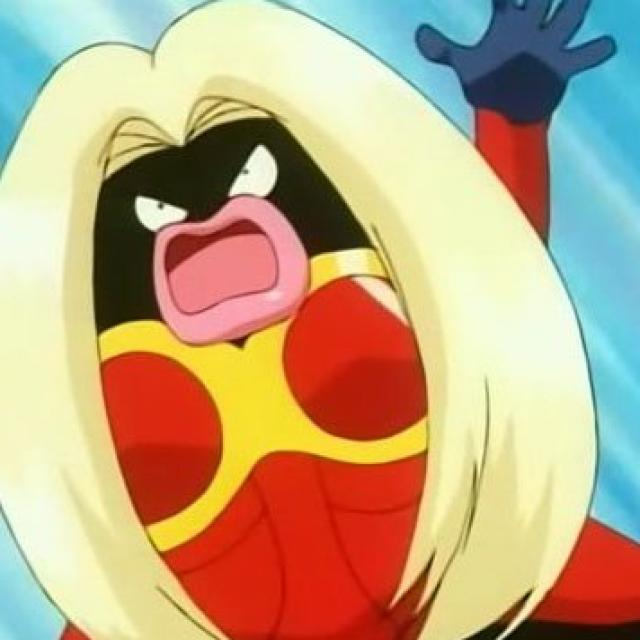Jynx: (0, 5, 581, 640)
